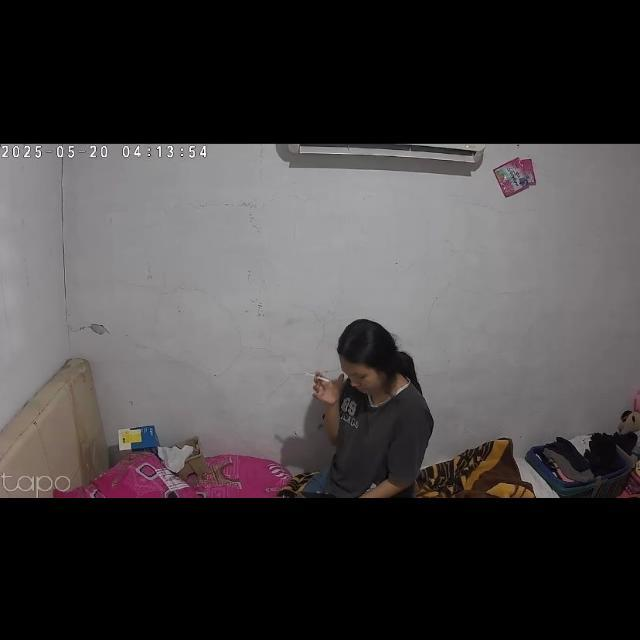rokok: (308, 372, 332, 382)
